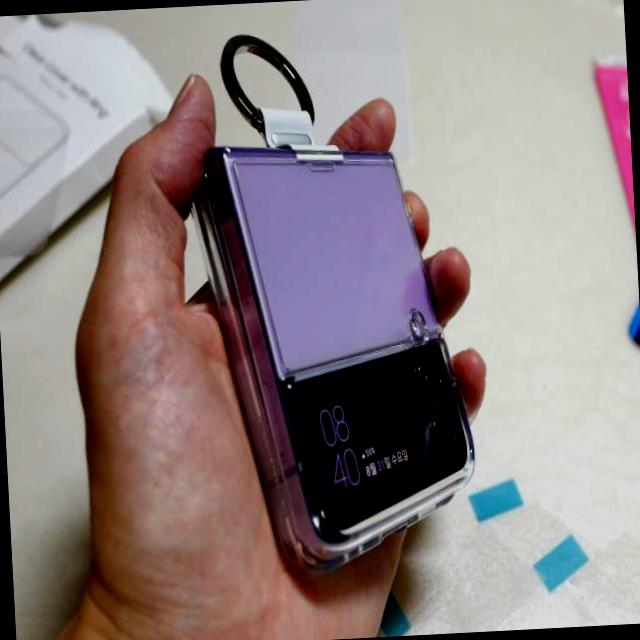lens_back: (420, 404, 465, 463), (415, 360, 454, 396)
phone: (194, 128, 491, 586)
